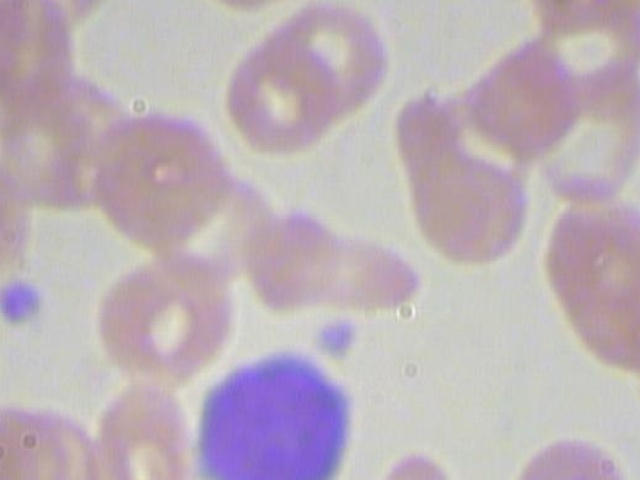Platelets: (0, 272, 56, 329), (311, 310, 364, 362)
RBC: (80, 253, 236, 385), (213, 38, 341, 160), (268, 0, 395, 119)
WBC: (183, 343, 354, 480)
